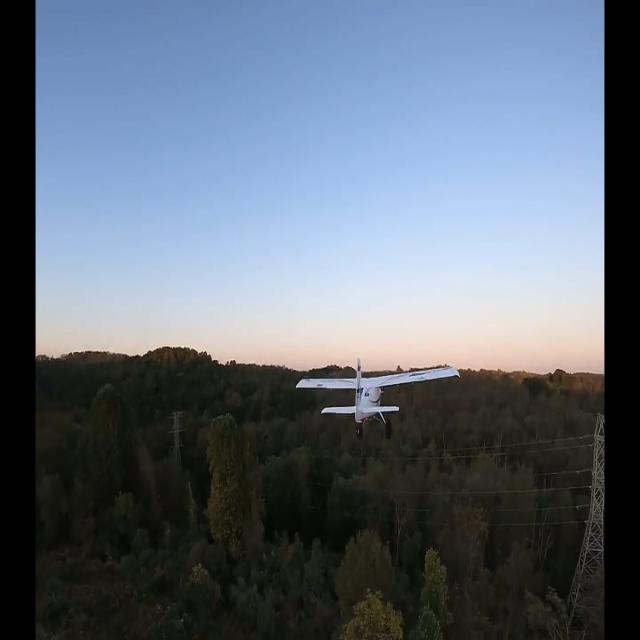iha: (295, 388, 461, 410)
